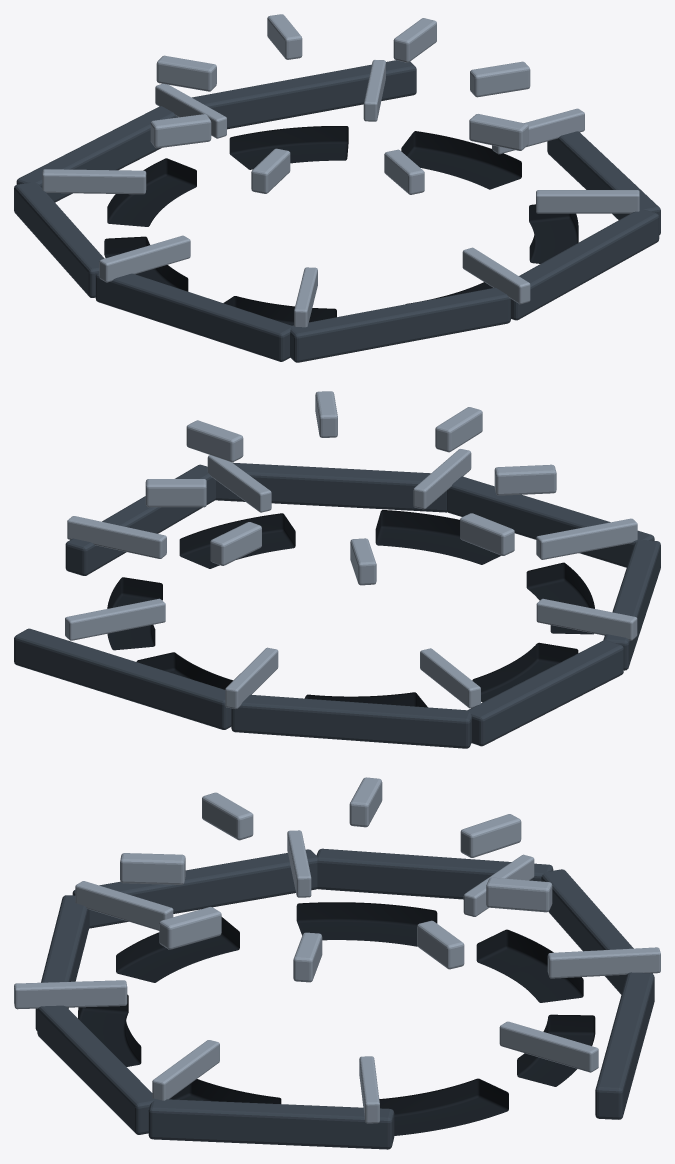
Rendered from ev_core_r11b_stator.glb.
The picture shows the model from 3 angles, top to bottom: view 1: azimuth 30°, elevation 25°; view 2: azimuth 150°, elevation 25°; view 3: azimuth 270°, elevation 25°; orthographic projection. The views are drawn at different scales.
Parts seen in each view (by area): view 1: RearCage_4, RearCage_3, RearCage_0, RearCage_5, RearCage_2, RearPlate_0, RearCage_1, RearPlate_1, RearCage_6, RearPlate_2, RearRib_3, RearRib_7 (+17 smaller); view 2: RearCage_1, RearCage_0, RearCage_5, RearCage_2, RearCage_4, RearCage_6, RearPlate_5, RearCage_3, RearPlate_6, RearRib_5, RearRib_1, RearRib_4 (+18 smaller); view 3: RearCage_6, RearCage_2, RearCage_3, RearCage_5, RearCage_0, RearPlate_3, RearPlate_0, RearPlate_2, RearCage_1, RearPlate_4, RearRib_2, RearRib_6 (+18 smaller).
Boxes of the visible parts, left/top/right/bottom form: RearCage_4: left=290, top=287, right=510, bottom=362; RearCage_3: left=95, top=272, right=291, bottom=361; RearCage_0: left=192, top=60, right=416, bottom=129; RearCage_5: left=511, top=209, right=659, bottom=320; RearCage_2: left=14, top=182, right=104, bottom=297; RearPlate_0: left=401, top=131, right=521, bottom=189; RearCage_1: left=16, top=106, right=177, bottom=202; RearPlate_1: left=229, top=126, right=348, bottom=169; RearCage_6: left=547, top=131, right=660, bottom=234; RearPlate_2: left=107, top=158, right=196, bottom=226; RearRib_3: left=42, top=169, right=146, bottom=194; RearRib_7: left=536, top=190, right=639, bottom=213; RearCage_1: left=231, top=694, right=471, bottom=748; RearCage_0: left=14, top=628, right=231, bottom=729; RearCage_5: left=215, top=462, right=447, bottom=512; RearCage_2: left=468, top=640, right=623, bottom=746; RearCage_4: left=447, top=476, right=654, bottom=567; RearCage_6: left=65, top=464, right=215, bottom=575; RearPlate_5: left=375, top=510, right=500, bottom=564; RearCage_3: left=603, top=540, right=660, bottom=670; RearPlate_6: left=179, top=513, right=295, bottom=568; RearRib_5: left=536, top=518, right=637, bottom=559; RearRib_1: left=65, top=598, right=165, bottom=640; RearRib_4: left=536, top=598, right=637, bottom=640; RearCage_6: left=148, top=1099, right=394, bottom=1149; RearCage_2: left=316, top=848, right=553, bottom=899; RearCage_3: left=72, top=849, right=317, bottom=928; RearCage_5: left=37, top=1005, right=154, bottom=1134; RearCage_0: left=595, top=972, right=654, bottom=1119; RearPlate_3: left=296, top=902, right=437, bottom=946; RearPlate_0: left=379, top=1078, right=508, bottom=1135; RearPlate_2: left=476, top=929, right=583, bottom=1002; RearCage_1: left=541, top=869, right=652, bottom=994; RearPlate_4: left=116, top=917, right=239, bottom=982; RearRib_2: left=547, top=947, right=660, bottom=978; RearRib_6: left=14, top=980, right=127, bottom=1009.
Bounding box in the file's own units: 7.82 × 2.16 × 7.8.
